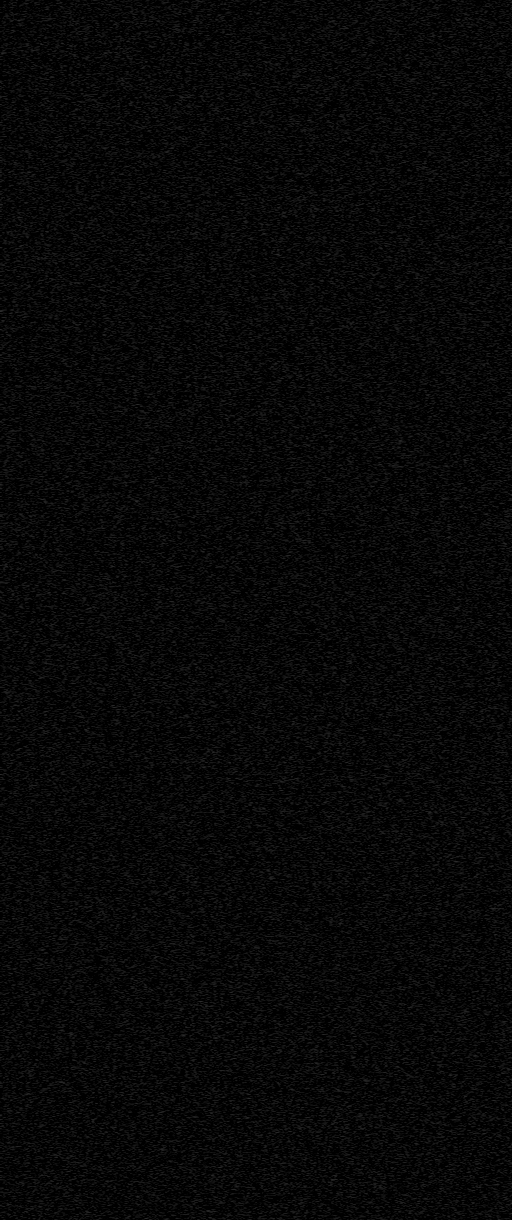wv_am: (276, 1, 287, 1220), (146, 1, 152, 1220)
wv_cw: (244, 1, 261, 1220), (265, 1, 271, 1220), (212, 1, 218, 1220)
wv_lsb: (243, 15, 248, 254), (243, 595, 248, 727), (243, 257, 248, 386), (243, 758, 248, 859), (243, 387, 248, 462), (243, 939, 248, 1002), (243, 489, 248, 537), (243, 1125, 248, 1166), (243, 1167, 248, 1199), (243, 463, 248, 488), (244, 552, 248, 583), (243, 1200, 249, 1220), (243, 1100, 248, 1124), (244, 1030, 248, 1057), (243, 1059, 248, 1080), (244, 893, 248, 911), (244, 1081, 248, 1099), (244, 1004, 248, 1017), (244, 729, 247, 746), (244, 868, 248, 880), (244, 930, 248, 938), (244, 913, 248, 921), (244, 1021, 248, 1029), (244, 747, 247, 757), (243, 585, 248, 591), (244, 860, 248, 867), (244, 544, 248, 551), (244, 885, 247, 892), (244, 922, 248, 927), (244, 538, 248, 543), (244, 881, 248, 884)
wv_usb: (49, 720, 52, 734), (48, 164, 52, 174), (48, 155, 53, 163), (49, 825, 52, 835), (49, 185, 52, 194), (48, 96, 52, 102), (49, 709, 52, 712), (49, 237, 52, 240)
